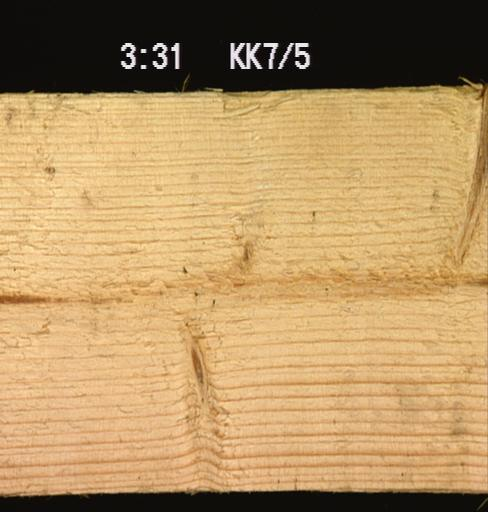small_knot: (234, 232, 266, 266)
